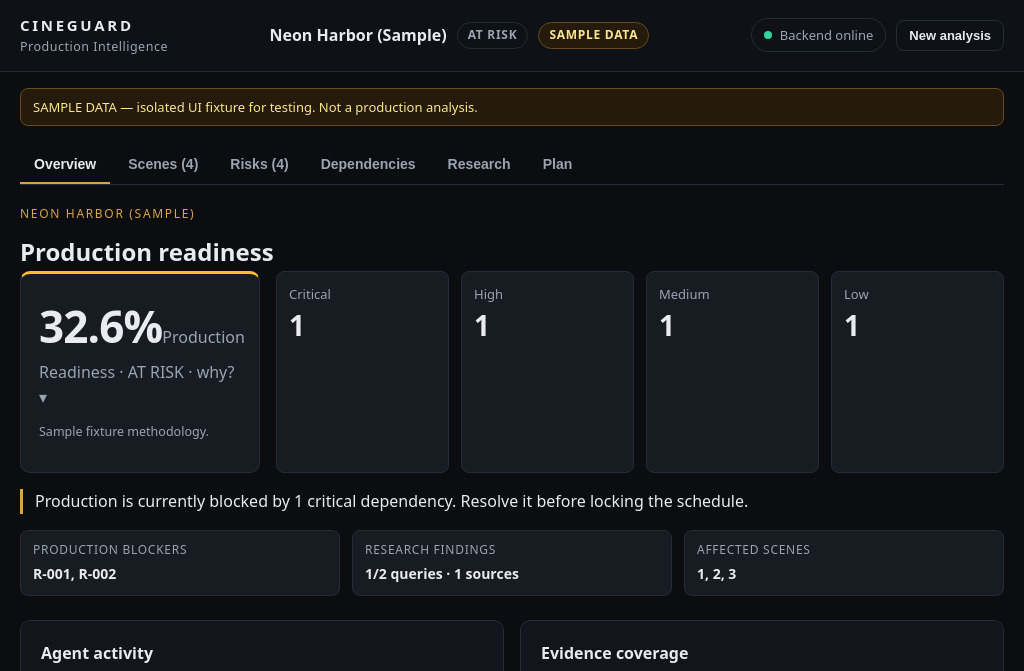
Scenario: Command Center › expands the readiness breakdown with real backend lines
The image size is (1024, 671).
Click the button "32.6%Production Readiness · AT RISK · why? ▾": (140, 350) [39, 292, 241, 409]
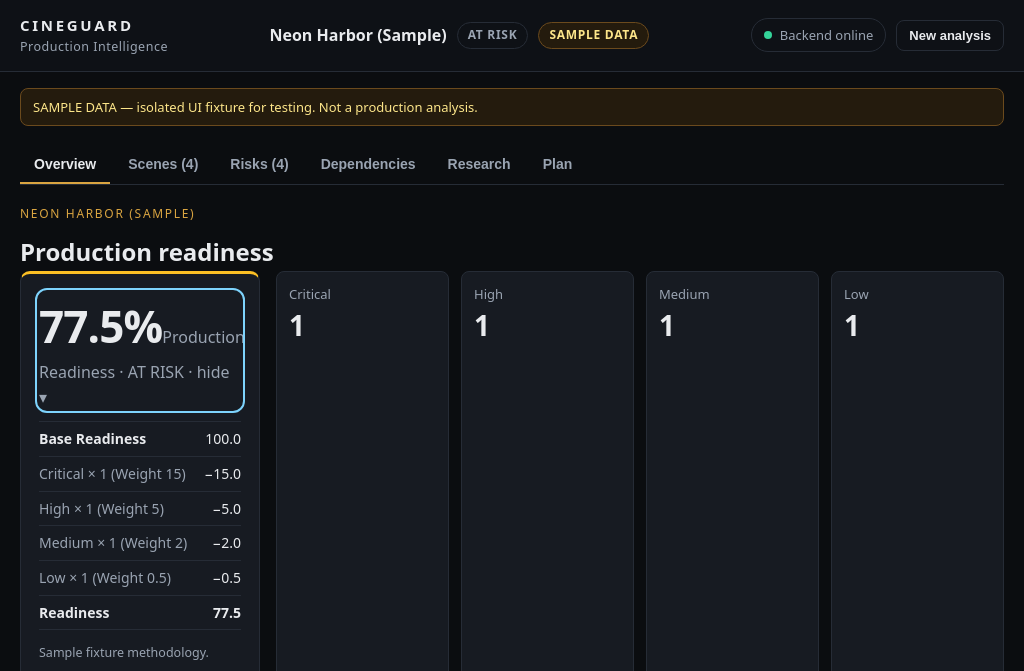
expect the text "Base readiness" is shown: met, box [39, 428, 146, 450]
expect the text "−15.0" is shown: met, box [204, 463, 241, 485]
expect the text "−5.0" is shown: met, box [212, 498, 241, 519]
